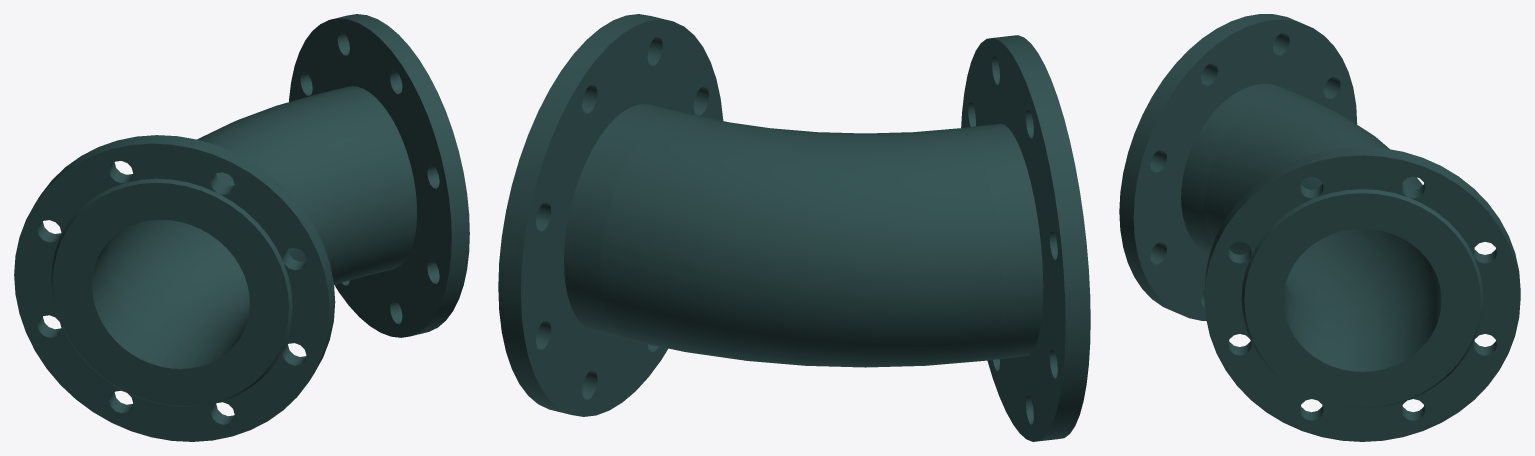
File: dfbend.glb
3 views of the same model, side by side, from view 1: azimuth 30°, elevation 25°; view 2: azimuth 150°, elevation 25°; view 3: azimuth 270°, elevation 25° (orthographic). The views are drawn at different scales.
Visible parts, largest first — view 1: 5012737 8540 DN125 - PN10 PN16 (400); view 2: 5012737 8540 DN125 - PN10 PN16 (400); view 3: 5012737 8540 DN125 - PN10 PN16 (400).
Part boxes in pixels (x1=…): 5012737 8540 DN125 - PN10 PN16 (400): x1=14, y1=14, x2=469, y2=441; 5012737 8540 DN125 - PN10 PN16 (400): x1=498, y1=14, x2=1090, y2=441; 5012737 8540 DN125 - PN10 PN16 (400): x1=1119, y1=14, x2=1520, y2=441.
Size of the model in its own units: 0.3423 by 0.25 by 0.3173.
